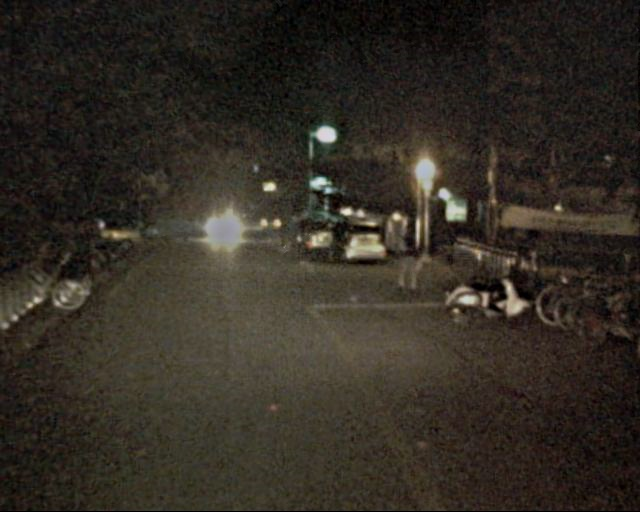person: (396, 228, 425, 299)
